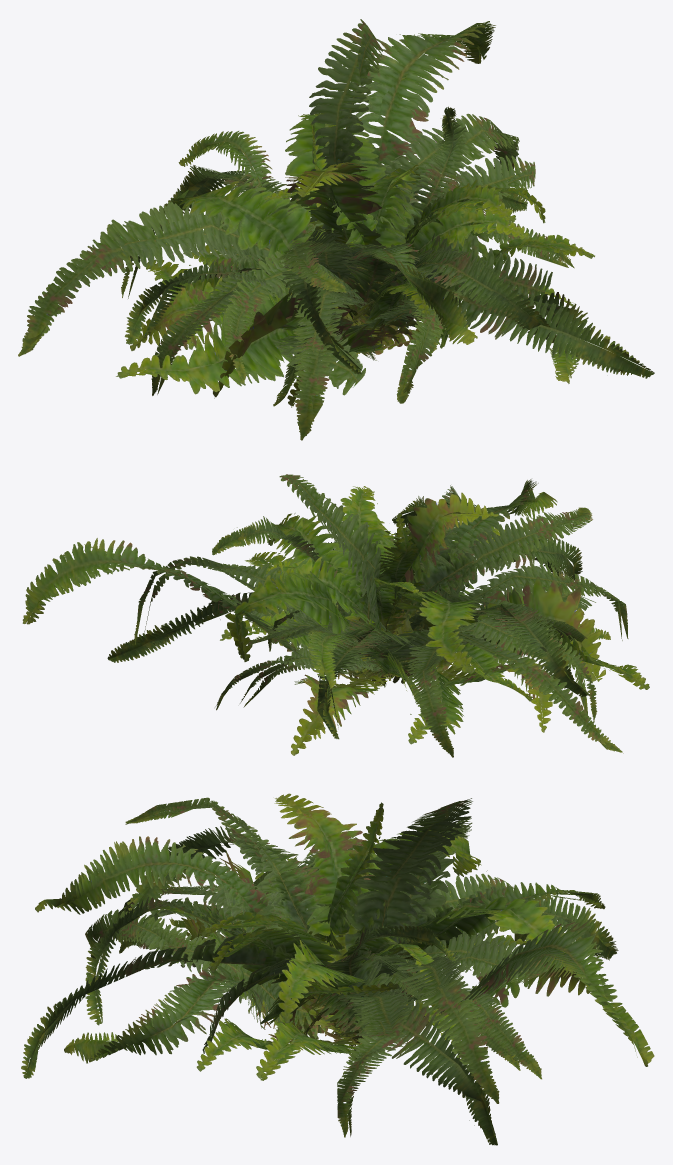
The model's file is fern_02.glb.
3 renders of one model, top to bottom at view 1: azimuth 30°, elevation 25°; view 2: azimuth 150°, elevation 25°; view 3: azimuth 270°, elevation 25°, orthographic. The views are drawn at different scales.
Parts seen in each view (by area): view 1: fern_02_v1_near, fern_02_v1_far, fern_02_v2_near, fern_02_v2_far, fern_02_v3_far, fern_02_v3_near, fern_02_v0_near, fern_02_v0_far; view 2: fern_02_v1_near, fern_02_v1_far, fern_02_v2_near, fern_02_v2_far, fern_02_v0_far, fern_02_v0_near, fern_02_v3_near, fern_02_v3_far; view 3: fern_02_v1_near, fern_02_v1_far, fern_02_v2_near, fern_02_v2_far, fern_02_v0_near, fern_02_v0_far, fern_02_v3_near, fern_02_v3_far.
Part boxes in pixels (<box>): fern_02_v1_near: <box>18,22,654,440</box>; fern_02_v1_far: <box>21,19,643,421</box>; fern_02_v2_near: <box>117,123,585,405</box>; fern_02_v2_far: <box>116,121,588,407</box>; fern_02_v3_far: <box>146,184,574,406</box>; fern_02_v3_near: <box>149,182,573,405</box>; fern_02_v0_near: <box>186,107,552,351</box>; fern_02_v0_far: <box>187,106,548,353</box>; fern_02_v1_near: <box>22,474,628,754</box>; fern_02_v1_far: <box>25,475,622,755</box>; fern_02_v2_near: <box>108,485,645,757</box>; fern_02_v2_far: <box>107,486,649,743</box>; fern_02_v0_far: <box>212,516,531,706</box>; fern_02_v0_near: <box>212,519,532,710</box>; fern_02_v3_near: <box>268,526,610,744</box>; fern_02_v3_far: <box>266,528,610,743</box>; fern_02_v1_near: <box>21,793,654,1137</box>; fern_02_v1_far: <box>25,798,641,1136</box>; fern_02_v2_near: <box>64,797,605,1145</box>; fern_02_v2_far: <box>64,800,602,1145</box>; fern_02_v0_near: <box>119,902,551,1072</box>; fern_02_v0_far: <box>119,890,549,1079</box>; fern_02_v3_near: <box>132,864,526,1071</box>; fern_02_v3_far: <box>152,863,526,1069</box>.
Bounding box in the file's own units: 0.9926 × 0.4377 × 0.895.
Materials: 1 (1 with a texture image).
